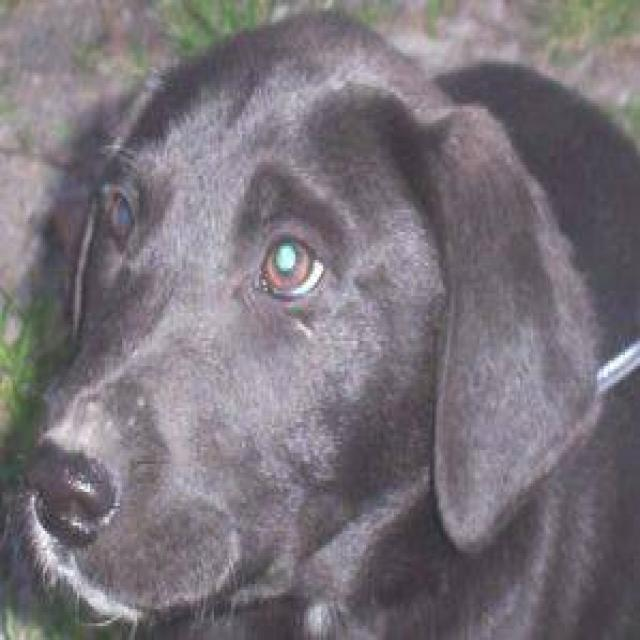dog: (0, 6, 638, 637)
